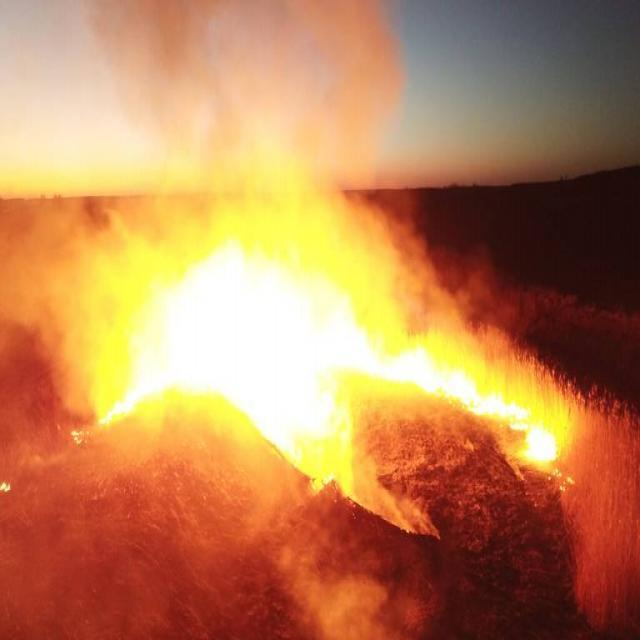Fire: (83, 241, 565, 481)
